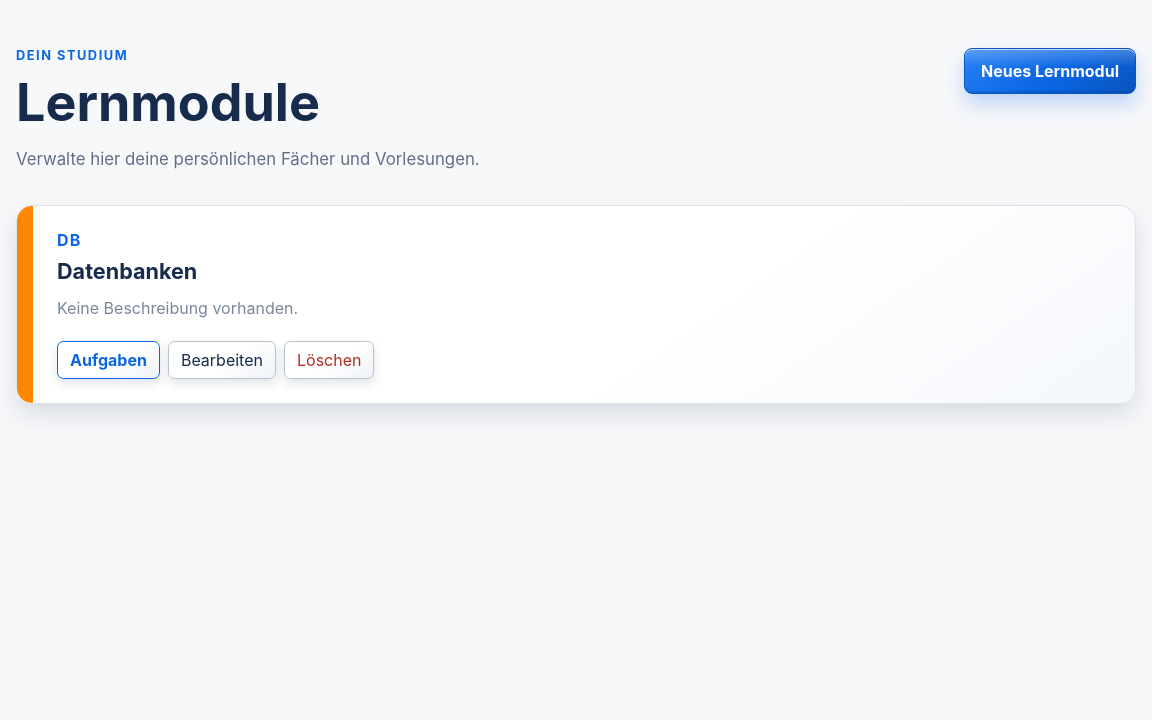
ModulesView › deletes a confirmed module and removes it from the list
The image size is (1152, 720).
Click the button with class "delete-module-button" at [329, 360], box x1=284 y1=341 x2=374 y2=379
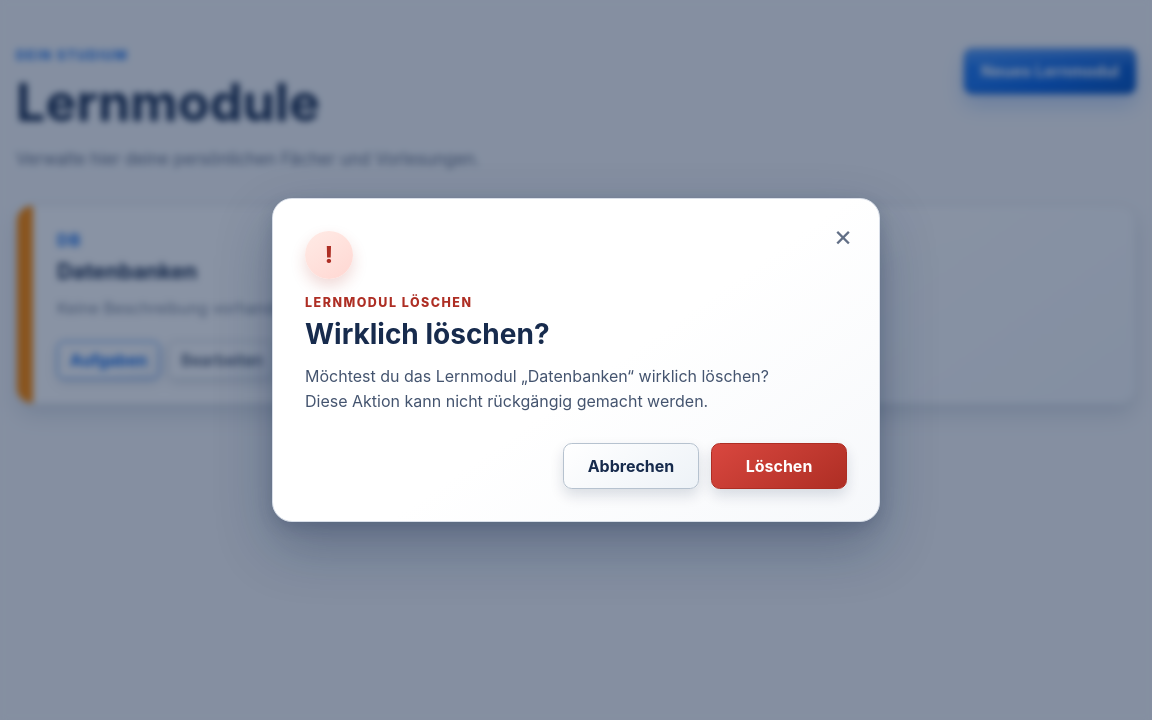
Click the button with class "confirm-delete-button" at [779, 466], box x1=711 y1=443 x2=847 y2=489
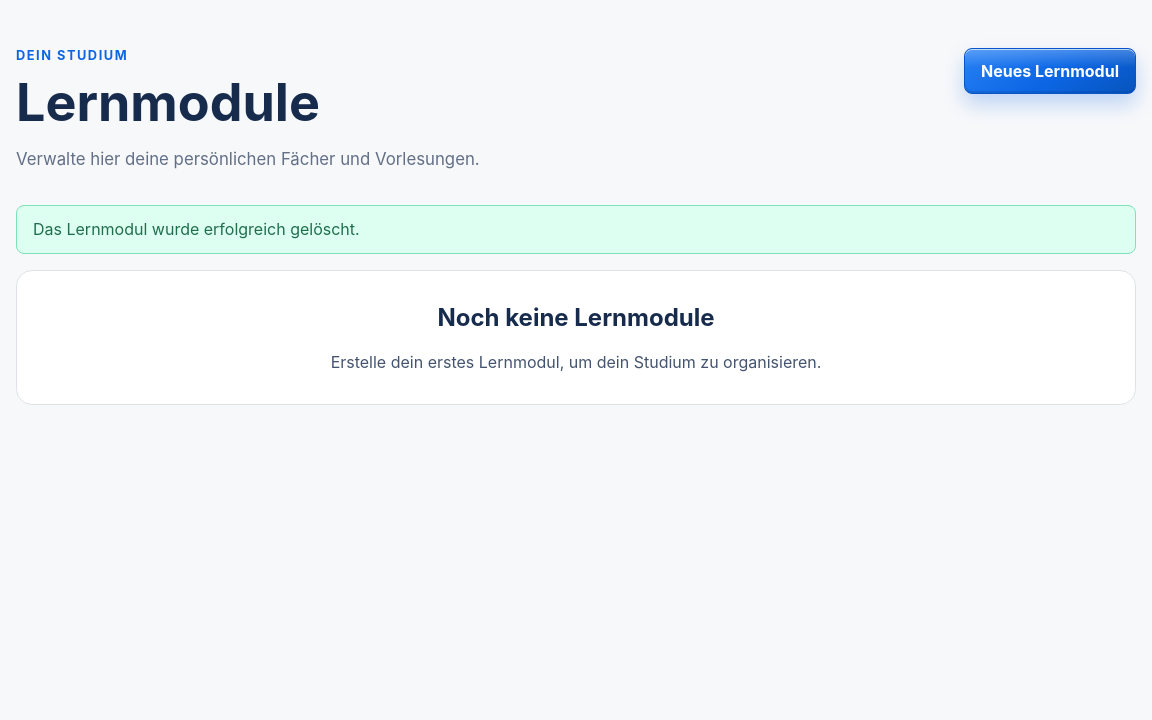
Expected: the text "Noch keine Lernmodule" is shown, x1=437 y1=303 x2=714 y2=332
Expected: the text "erfolgreich gelöscht" is shown, x1=33 y1=220 x2=360 y2=240
